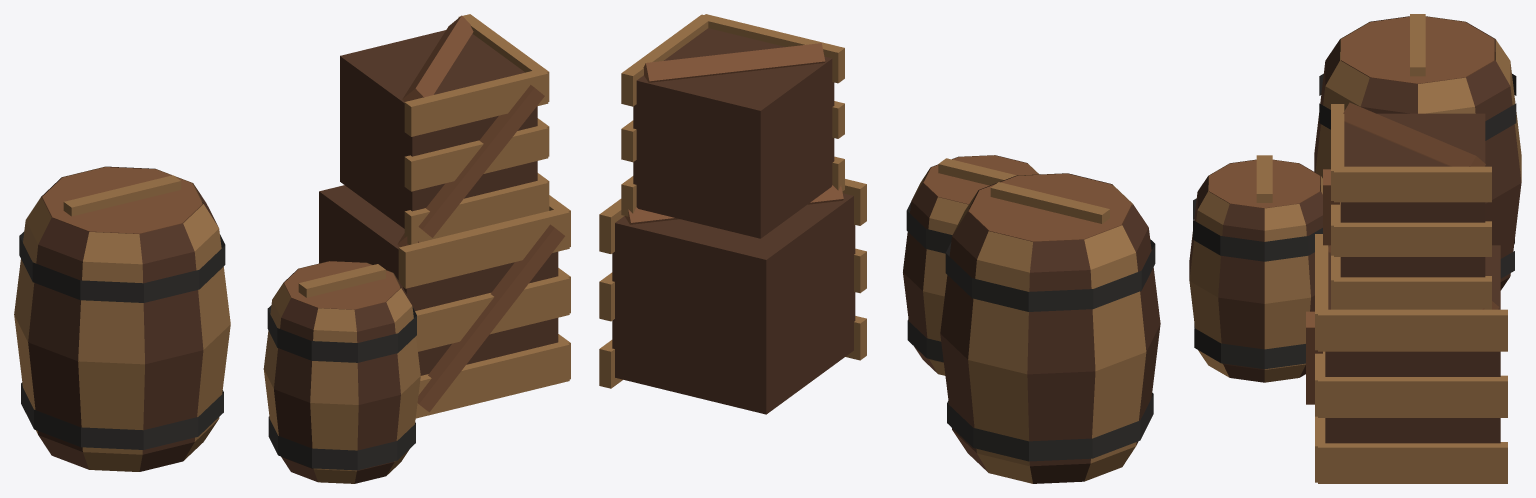
Rendered from barrels-crates.glb.
3 renders of one model, left to right at view 1: azimuth 30°, elevation 25°; view 2: azimuth 150°, elevation 25°; view 3: azimuth 270°, elevation 25°, orthographic.
Parts seen in each view (by area): view 1: barrels-crates; view 2: barrels-crates; view 3: barrels-crates.
Part boxes in pixels (bbox=[...]): barrels-crates: bbox=[14, 14, 570, 483]; barrels-crates: bbox=[599, 14, 1160, 483]; barrels-crates: bbox=[1189, 14, 1521, 483].
Size of the model in its own units: 2.34 by 1.42 by 1.36.
